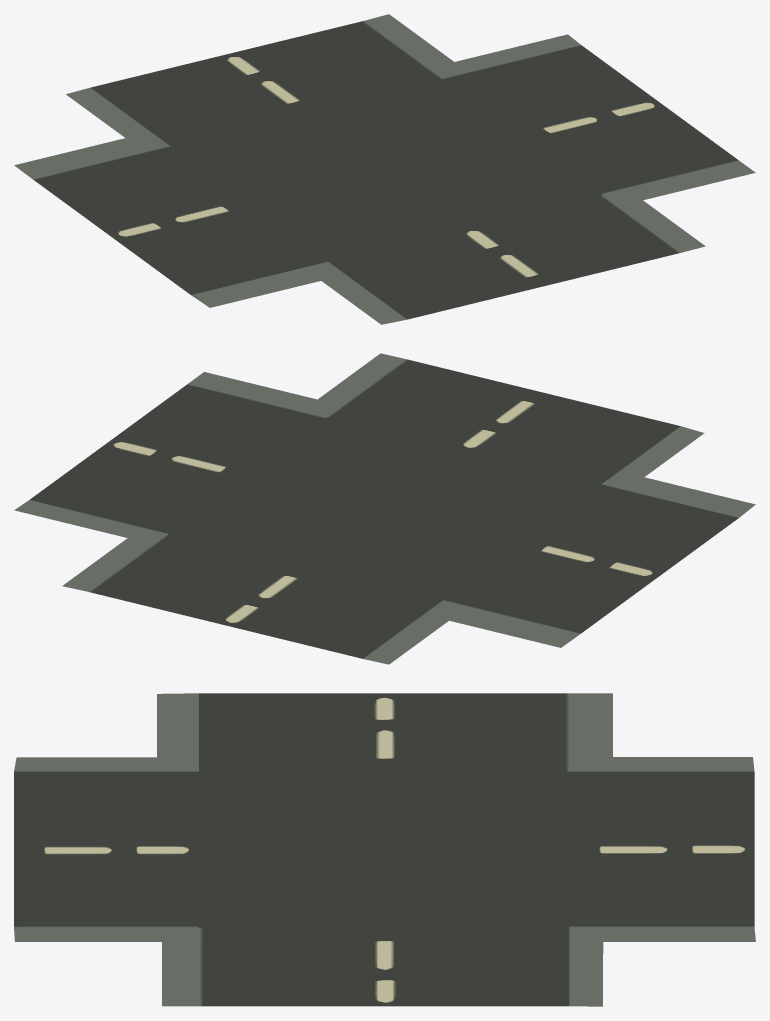
File: Road_Crossroads.FBX
3 views of the same model, one above another, from view 1: azimuth 30°, elevation 25°; view 2: azimuth 150°, elevation 25°; view 3: azimuth 270°, elevation 25° (orthographic). The views are drawn at different scales.
Visible parts, largest first — view 1: Crossroads; view 2: Crossroads; view 3: Crossroads.
Boxes of the visible parts, bbox=[...] form: Crossroads: bbox=[14, 14, 755, 324]; Crossroads: bbox=[14, 353, 755, 664]; Crossroads: bbox=[14, 693, 755, 1006].
Bounding box in the file's own units: 160 × 1.49e-06 × 160.
1 material, 1 textured.
